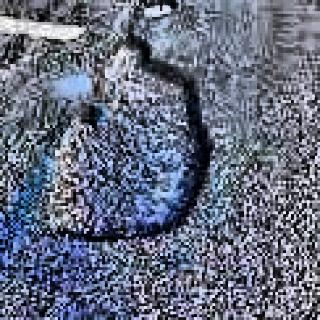pothole: (51, 29, 213, 246)
